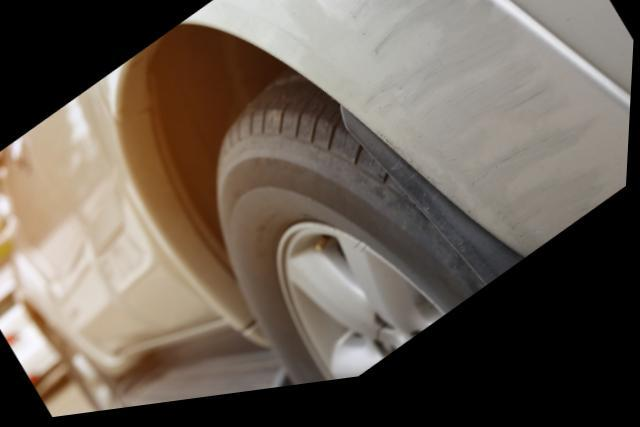rub: (336, 0, 621, 272)
